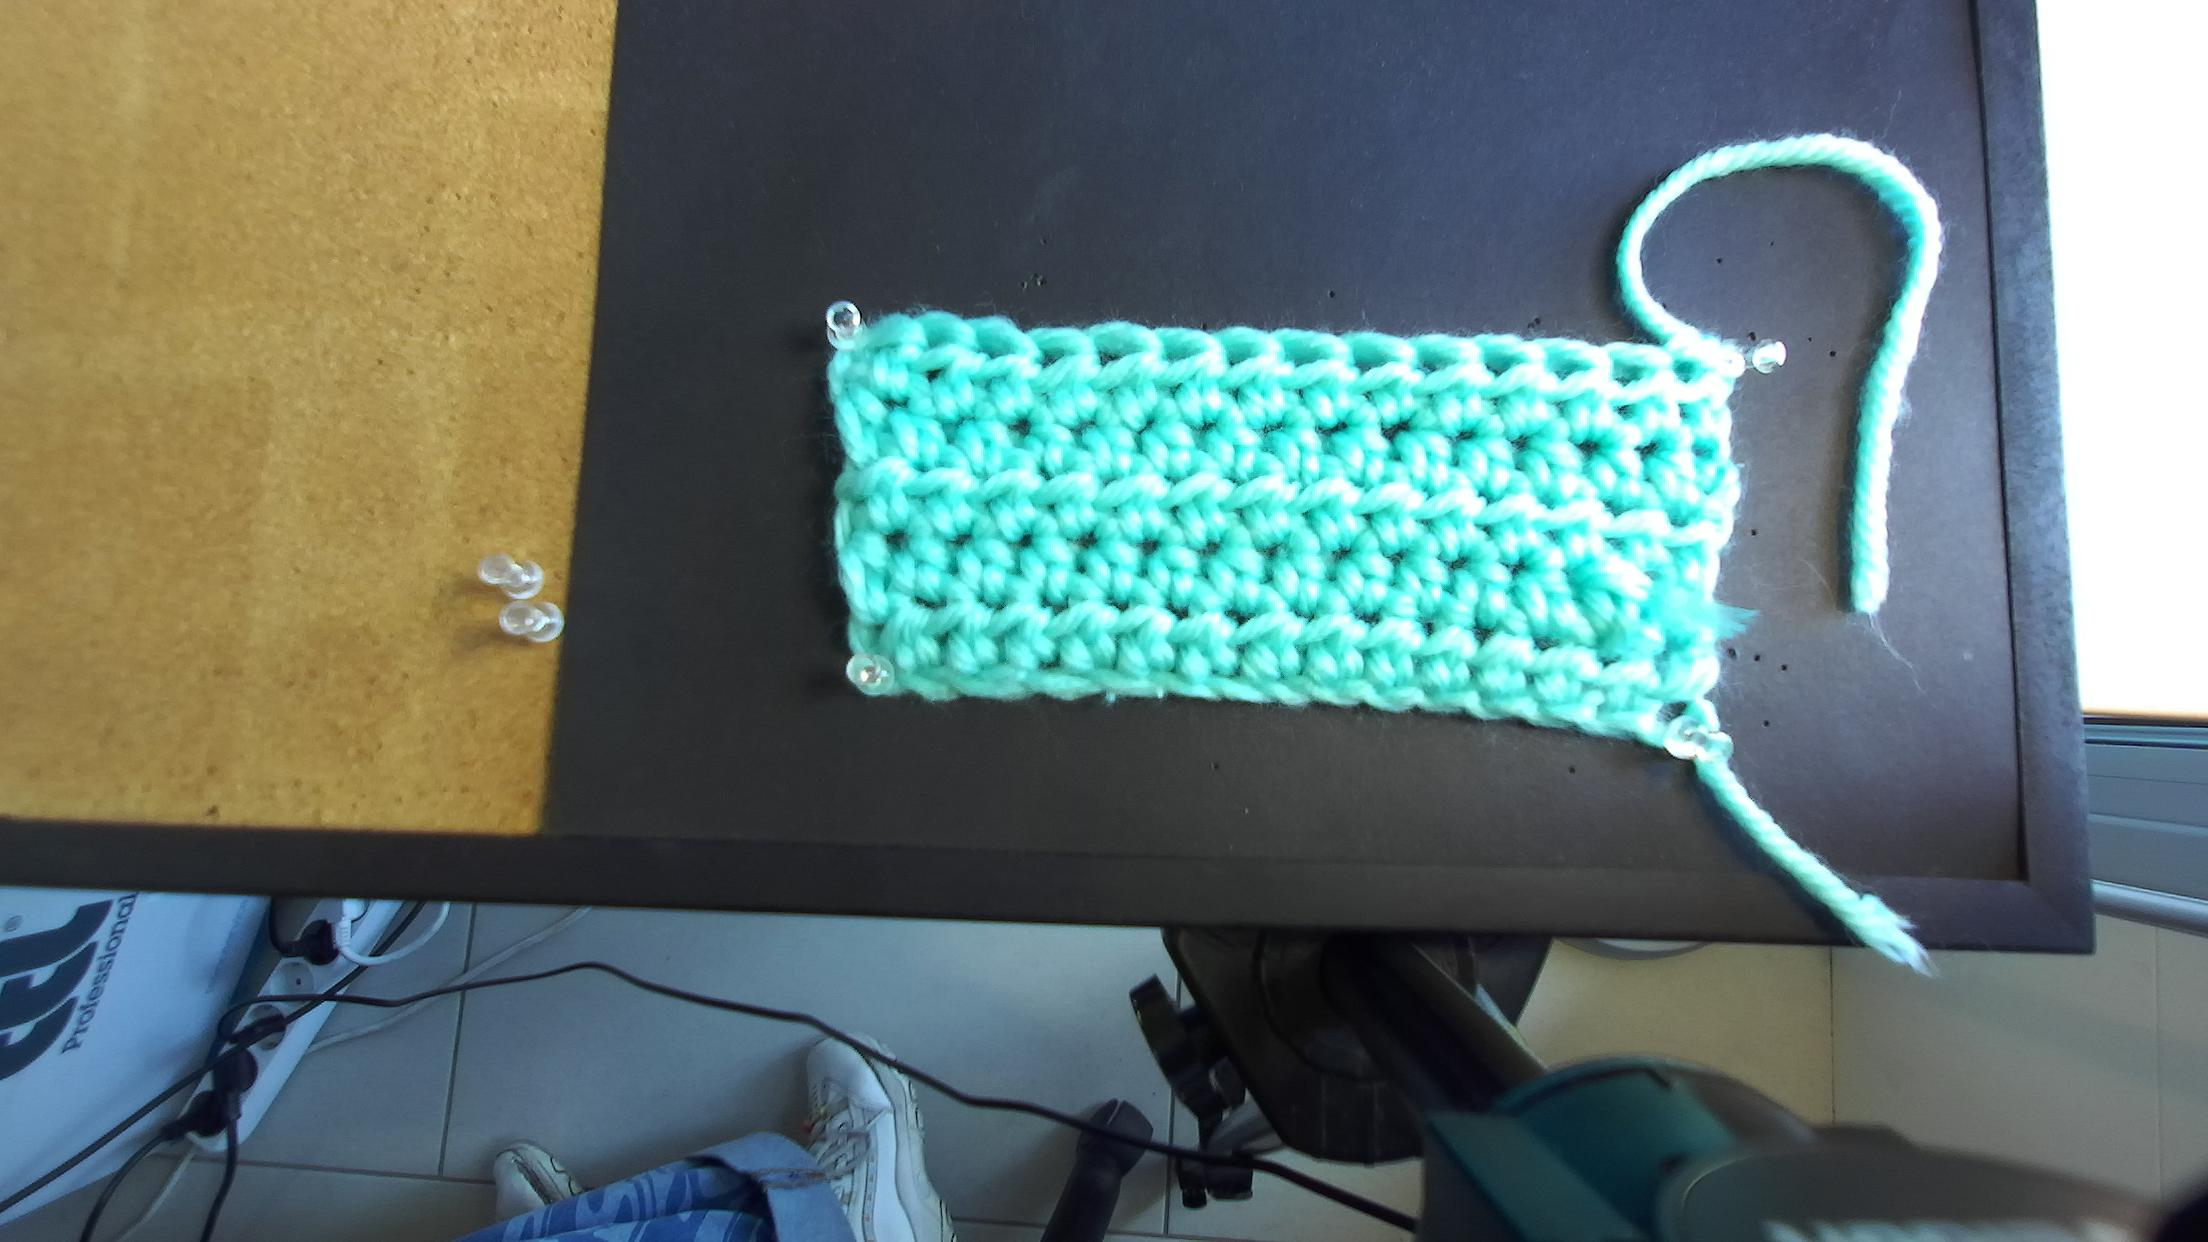hole: (1096, 341, 1142, 368), (1352, 352, 1394, 376), (1415, 356, 1456, 378), (1614, 361, 1644, 388), (1036, 348, 1071, 371), (1284, 348, 1324, 367), (1549, 361, 1586, 381), (1484, 359, 1519, 380), (977, 339, 1011, 359), (922, 332, 954, 350), (1164, 344, 1196, 362), (1672, 361, 1694, 383), (1227, 350, 1252, 367)
swatch: (824, 310, 1738, 764)
